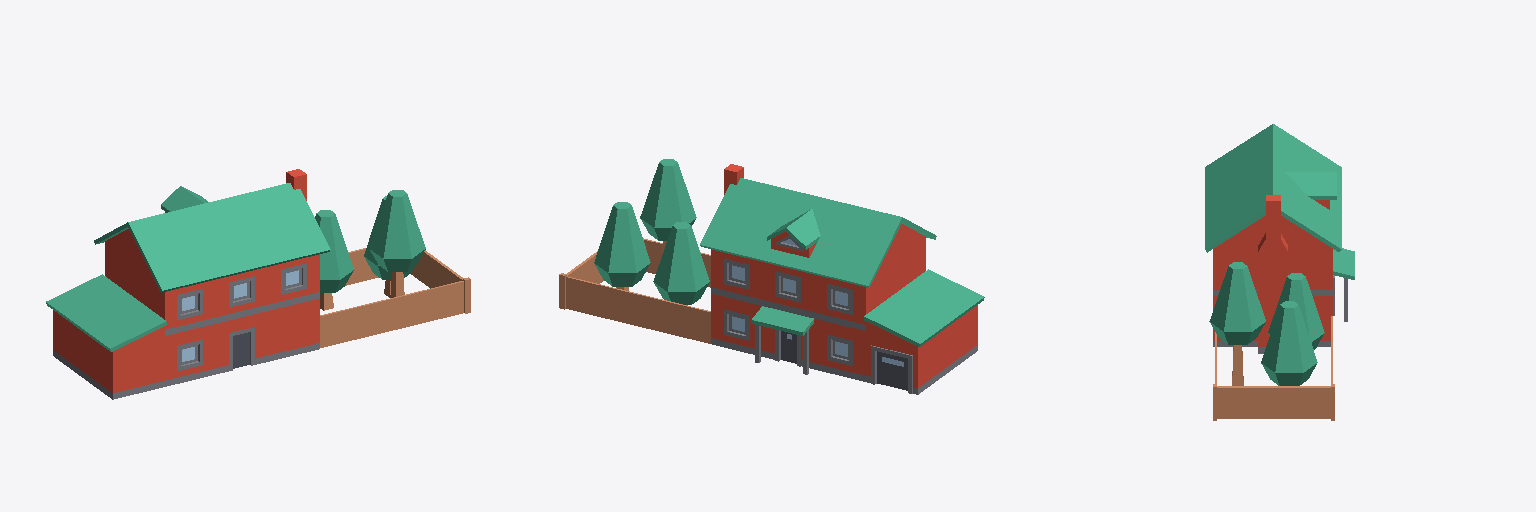
The model's file is city_house_long_d.obj.
3 renders of one model, left to right at view 1: azimuth 30°, elevation 25°; view 2: azimuth 150°, elevation 25°; view 3: azimuth 270°, elevation 25°, orthographic.
Visible parts, largest first — view 1: mergedBlocks; view 2: mergedBlocks; view 3: mergedBlocks.
Part boxes in pixels (x1,y1,x2,y2): mergedBlocks: (46, 169, 470, 399); mergedBlocks: (559, 159, 984, 394); mergedBlocks: (1205, 124, 1354, 420).
Bounding box in the file's own units: 1.79 × 0.72 × 0.6438.